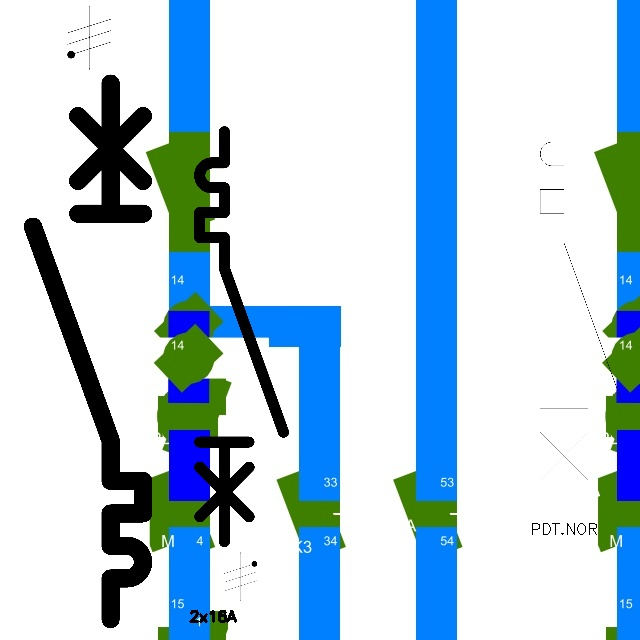interruptor_termomagnetico: (19, 69, 157, 632), (189, 121, 294, 552), (530, 102, 631, 514)
